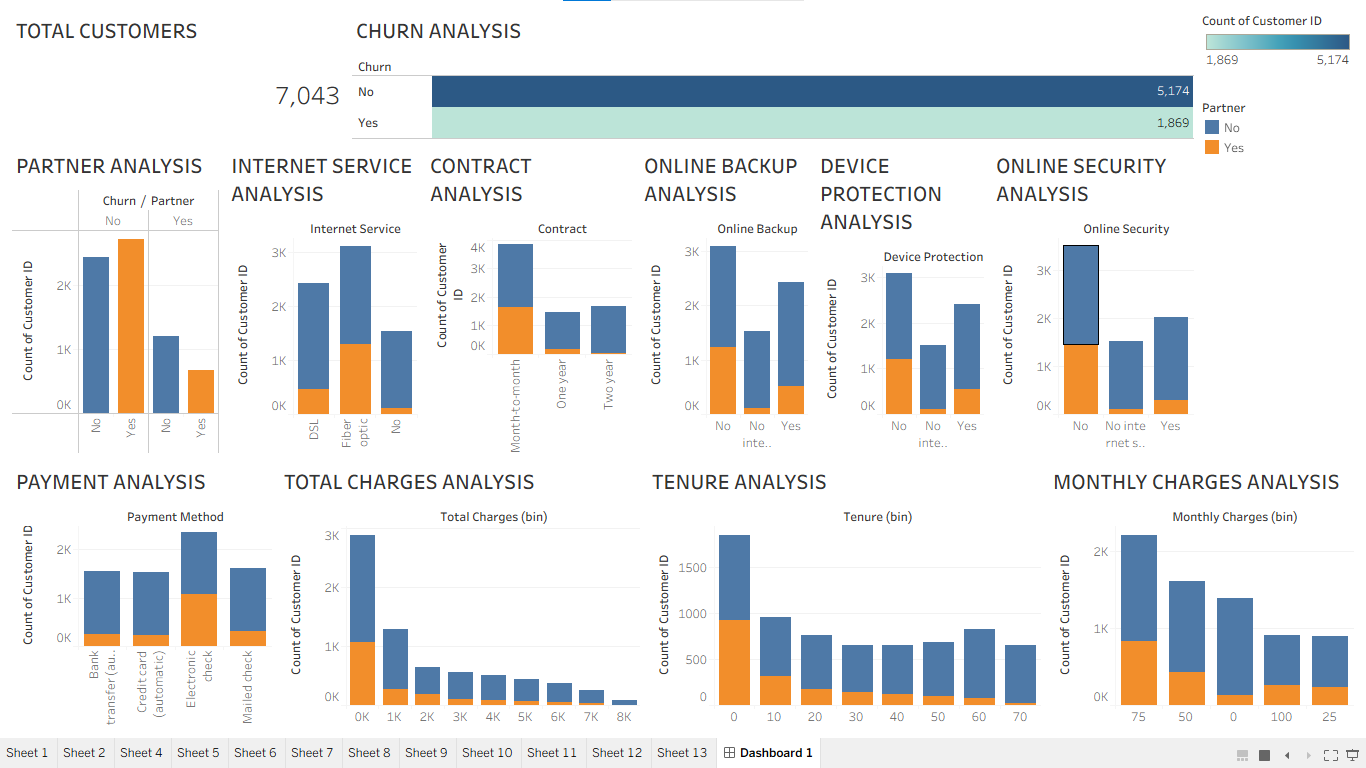

The page's visual inventory and layout, read from the dashboard file:
{"tool":"tableau","page":{"name":"Dashboard 1","canvas":[1000,1000],"units":"permille","ordinal":0},"visuals":[{"type":"worksheet","title":"Sheet 1","mark":"Automatic","box":[6.9,13.3,242.4,182.6]},{"type":"worksheet","title":"Sheet 2","mark":"Square","rows":["Churn"],"box":[249.3,13.3,605.2,182.6]},{"type":"legend","title":"Sheet 2","param":"[federated.1bm43gj179qsk41ddijhy1jm3d6a].[cnt:customerID:qk]","box":[854.5,13.3,138.5,108]},{"type":"legend","title":"Sheet 2","param":"[federated.1bm43gj179qsk41ddijhy1jm3d6a].[cnt:customerID:qk]","box":[854.5,121.3,138.5,36.6]},{"type":"legend","title":"Sheet 4","param":"[federated.1bm43gj179qsk41ddijhy1jm3d6a].[none:Partner:nk]","box":[854.5,157.8,138.5,129.6]},{"type":"worksheet","title":"Sheet 4","mark":"Automatic","rows":["customerID"],"cols":["Churn","Partner"],"box":[6.9,195.8,153.1,425.2]},{"type":"worksheet","title":"Sheet 6","mark":"Automatic","rows":["customerID"],"cols":["InternetService"],"box":[160.1,195.8,142,425.2]},{"type":"worksheet","title":"Sheet 10","mark":"Automatic","rows":["customerID"],"cols":["Contract"],"box":[302,195.8,143,425.2]},{"type":"worksheet","title":"Sheet 8","mark":"Automatic","rows":["customerID"],"cols":["OnlineBackup"],"box":[445,195.8,134.7,425.2]},{"type":"worksheet","title":"Sheet 9","mark":"Automatic","rows":["customerID"],"cols":["DeviceProtection"],"box":[579.7,195.8,125.3,425.2]},{"type":"worksheet","title":"Sheet 7","mark":"Automatic","rows":["customerID"],"cols":["OnlineSecurity"],"box":[705.1,195.8,149.5,425.2]},{"type":"worksheet","title":"Sheet 11","mark":"Automatic","rows":["customerID"],"cols":["PaymentMethod"],"box":[6.9,621.1,195.7,365.7]},{"type":"worksheet","title":"Sheet 12","mark":"Automatic","rows":["customerID"],"cols":["Total Charges (bin)"],"box":[202.6,621.1,264,365.7]},{"type":"worksheet","title":"Sheet 5","mark":"Automatic","rows":["customerID"],"cols":["Tenure (bin)"],"box":[466.6,621.1,297.9,365.7]},{"type":"worksheet","title":"Sheet 13","mark":"Automatic","rows":["customerID"],"cols":["Monthly Charges (bin)"],"box":[764.4,621.1,228.6,365.7]}]}

Visuals, with their boxes on the dashboard's canvas, which has no fixed pixel size, in thousandths of its width and height (x1, y1, x2, y2). These are canvas units, not pixel positions in the 1366x768 screenshot, which may show the page scaled, cropped or inside an application window:
"Sheet 1" worksheet: x1=7, y1=13, x2=249, y2=196
"Sheet 2" worksheet (Square marks): x1=249, y1=13, x2=854, y2=196
"Sheet 2" legend: x1=854, y1=13, x2=993, y2=121
"Sheet 2" legend: x1=854, y1=121, x2=993, y2=158
"Sheet 4" legend: x1=854, y1=158, x2=993, y2=287
"Sheet 4" worksheet: x1=7, y1=196, x2=160, y2=621
"Sheet 6" worksheet: x1=160, y1=196, x2=302, y2=621
"Sheet 10" worksheet: x1=302, y1=196, x2=445, y2=621
"Sheet 8" worksheet: x1=445, y1=196, x2=580, y2=621
"Sheet 9" worksheet: x1=580, y1=196, x2=705, y2=621
"Sheet 7" worksheet: x1=705, y1=196, x2=855, y2=621
"Sheet 11" worksheet: x1=7, y1=621, x2=203, y2=987
"Sheet 12" worksheet: x1=203, y1=621, x2=467, y2=987
"Sheet 5" worksheet: x1=467, y1=621, x2=764, y2=987
"Sheet 13" worksheet: x1=764, y1=621, x2=993, y2=987
